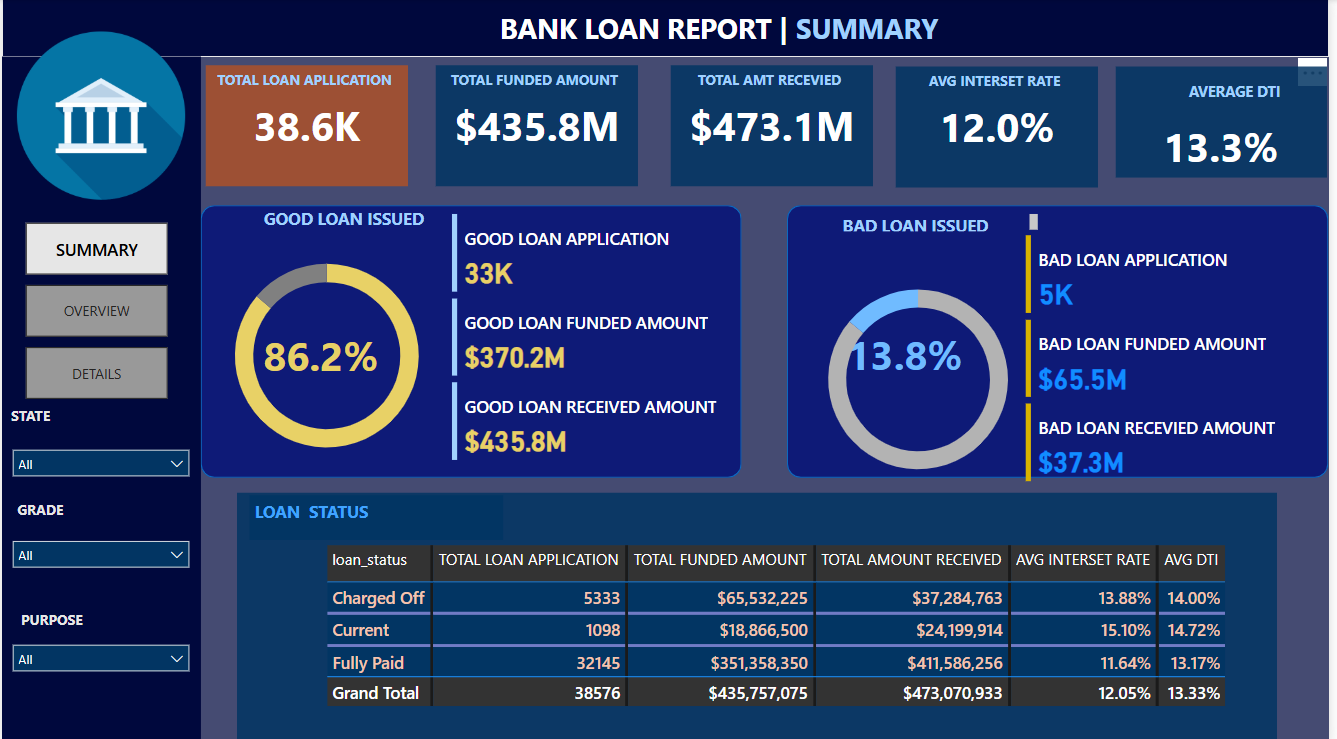

This screenshot's page, from the dashboard's own definition file:
{"tool":"powerbi","page":{"name":"SUMMARY","canvas":[1280,720],"ordinal":0},"visuals":[{"type":"shape","box":[0,0,1280.3,55],"z":0},{"type":"shape","box":[196.6,63.9,195.4,117],"z":0,"group":"g2"},{"type":"shape","box":[418.6,63.9,195.4,117],"z":0,"group":"g3"},{"type":"shape","box":[645.4,63.9,195.4,117],"z":0,"group":"g4"},{"type":"shape","box":[862.6,65.1,195.4,117],"z":0,"group":"g5"},{"type":"shape","box":[1075,65.4,203.9,107.4],"z":0,"group":"g6"},{"type":"donutChart","fields":{"Category":["financial_loan (1).good vs bad loan"],"Y":["financial_loan (1).TOTAL LOAN APPLICATION"]},"box":[771.5,248,226.8,237.7],"z":0,"group":"g13"},{"type":"shape","box":[227,476.6,1003.8,243.7],"z":0,"group":"g12"},{"type":"shape","box":[0,55.5,192,664.7],"z":1000},{"type":"card","fields":{"Values":["financial_loan (1).TOTAL LOAN APPLICATION"]},"box":[196.6,95.3,195.4,53.1],"z":1000,"group":"g2"},{"type":"card","fields":{"Values":["financial_loan (1).TOTAL FUNDED AMOUNT"]},"box":[418.6,95.3,195.4,53.1],"z":1000,"group":"g3"},{"type":"card","fields":{"Values":["financial_loan (1).TOTAL AMOUNT RECEIVED"]},"box":[645.4,95.3,195.4,53.1],"z":1000,"group":"g4"},{"type":"card","fields":{"Values":["financial_loan (1).AVG INTERSET RATE"]},"box":[862.6,96.5,195.4,53.1],"z":1000,"group":"g5"},{"type":"card","fields":{"Values":["financial_loan (1).AVG DTI"]},"box":[1078.5,114.6,195.6,55.3],"z":1000,"group":"g6"},{"type":"cardVisual","fields":{"Data":["financial_loan (1).BAD LOAN  APPLICATION","financial_loan (1).BAD LOAN FUNDED AMOUNT","financial_loan (1).BAD LOAN RECEVIED AMOUNT"]},"box":[983.9,222.7,290.8,249.7],"z":1000,"group":"g13"},{"type":"card","fields":{"Values":["financial_loan (1).BAD LOAN APPLICATION"]},"box":[805.9,312.5,131.5,61.5],"z":1000,"group":"g11"},{"type":"card","fields":{"Values":["financial_loan (1).good loan percentage"]},"box":[238.9,320.9,137.5,45.8],"z":1000,"group":"g7"},{"type":"textbox","box":[413.8,4.8,556.2,47.1],"z":2000},{"type":"textbox","box":[191.8,63.9,200.3,31.4],"z":2000,"group":"g2"},{"type":"textbox","box":[413.8,63.9,200.3,31.4],"z":2000,"group":"g3"},{"type":"textbox","box":[640.6,63.9,200.3,31.4],"z":2000,"group":"g4"},{"type":"textbox","box":[857.8,65.1,200.3,31.4],"z":2000,"group":"g5"},{"type":"textbox","box":[1099,74.8,181.1,37.7],"z":2000,"group":"g6"},{"type":"textbox","box":[199.1,195,261.8,38.6],"z":2000,"group":"g8"},{"type":"group","id":"g1","title":"Group 2","box":[197.9,202.7,522.4,263],"z":2000,"group":"g13"},{"type":"textbox","box":[766.5,203,238.9,26.5],"z":2000,"group":"g10"},{"type":"textbox","box":[790.2,225.6,308.8,9.7],"z":2000,"group":"g9"},{"type":"textbox","box":[0,388.5,66.4,35],"z":2000,"group":"g14"},{"type":"textbox","box":[9.7,479,66.4,33.8],"z":2000,"group":"g15"},{"type":"textbox","box":[9.7,585.1,85.7,35],"z":2000,"group":"g16"},{"type":"group","id":"g2","title":"Group 1","box":[191.8,63.9,200.3,117],"z":3000},{"type":"group","id":"g3","title":"Group 1","box":[413.8,63.9,200.3,117],"z":4000},{"type":"group","id":"g4","title":"Group 1","box":[640.6,63.9,200.3,117],"z":5000},{"type":"shape","box":[191.8,199.1,522,263],"z":6000},{"type":"group","id":"g5","title":"Group 1","box":[857.8,65.1,200.3,117],"z":7000},{"type":"group","id":"g6","title":"Group 1","box":[1075,65.4,205,107.4],"z":8000},{"type":"shape","box":[757.6,199.1,522.4,263],"z":9000},{"type":"donutChart","fields":{"Category":["financial_loan (1).good vs bad loan"],"Y":["financial_loan (1).TOTAL LOAN APPLICATION"]},"box":[197.9,223.2,231.6,242.5],"z":10000,"group":"g1"},{"type":"group","id":"g7","title":"Group 1","box":[238.9,320.9,137.5,45.8],"z":10000},{"type":"group","id":"g8","title":"Group 1","box":[199.1,195,261.8,38.6],"z":11000},{"type":"group","id":"g9","title":"Group 1","box":[790.2,225.6,308.8,9.7],"z":12000},{"type":"group","id":"g10","title":"Group 1","box":[766.5,203,238.9,26.5],"z":13000},{"type":"cardVisual","fields":{"Data":["financial_loan (1).GOOD LOAN APPLICATION","financial_loan (1).GOOD LOAN FUNDED AMOUNT","financial_loan (1).GOOD LOAN RECEIVED AMOUNT"]},"box":[429.5,202.7,290.8,249.7],"z":14000,"group":"g1"},{"type":"group","id":"g11","title":"Group 1","box":[805.9,312.5,131.5,61.5],"z":14000},{"type":"group","id":"g12","title":"Group 1","box":[227,476.6,1003.8,243.7],"z":15000},{"type":"group","id":"g13","title":"Group 3","box":[197.9,202.7,1076.1,283.5],"z":16000},{"type":"tableEx","fields":{"Values":["financial_loan (1).loan_status","financial_loan (1).TOTAL LOAN APPLICATION","financial_loan (1).TOTAL FUNDED AMOUNT","financial_loan (1).TOTAL AMOUNT RECEIVED","financial_loan (1).AVG INTERSET RATE","financial_loan (1).AVG DTI"]},"box":[307.6,522.4,897.6,181],"z":17000},{"type":"textbox","box":[238.9,479,244.9,43.4],"z":18000},{"type":"slicer","fields":{"Values":["financial_loan (1).address_state"]},"box":[0,424.7,190.6,51.9],"z":19000},{"type":"group","id":"g14","title":"Group 1","box":[0,388.5,66.4,35],"z":20000},{"type":"slicer","fields":{"Values":["financial_loan (1).grade"]},"box":[0,512.7,190.6,55.5],"z":22000},{"type":"group","id":"g15","title":"Group 1","box":[9.7,479,66.4,33.8],"z":23000},{"type":"slicer","fields":{"Values":["financial_loan (1).purpose"]},"box":[0,612.9,190.6,51.9],"z":24000},{"type":"group","id":"g16","title":"Group 1","box":[9.7,585.1,85.7,36.2],"z":25000},{"type":"image","box":[0,26.5,190.6,172.5],"z":25001},{"type":"pageNavigator","box":[22.9,216,137.5,172.5],"z":25002}]}

Visuals, with their boxes in screenshot pixels (x1, y1, x2, y2), scaled from the page's 1280x720 canvas onto the 1337x739 screenshot:
shape: (0, 0, 1336, 56)
shape: (205, 66, 409, 186)
shape: (437, 66, 641, 186)
shape: (674, 66, 878, 186)
shape: (901, 67, 1105, 187)
shape: (1123, 67, 1336, 177)
donutChart - financial_loan (1).good vs bad loan x financial_loan (1).TOTAL LOAN APPLICATION: (806, 255, 1043, 499)
shape: (237, 489, 1286, 738)
shape: (0, 57, 201, 738)
card - financial_loan (1).TOTAL LOAN APPLICATION: (205, 98, 409, 152)
card - financial_loan (1).TOTAL FUNDED AMOUNT: (437, 98, 641, 152)
card - financial_loan (1).TOTAL AMOUNT RECEIVED: (674, 98, 878, 152)
card - financial_loan (1).AVG INTERSET RATE: (901, 99, 1105, 154)
card - financial_loan (1).AVG DTI: (1127, 118, 1331, 174)
cardVisual - financial_loan (1).BAD LOAN  APPLICATION x financial_loan (1).BAD LOAN FUNDED AMOUNT: (1028, 229, 1331, 485)
card - financial_loan (1).BAD LOAN APPLICATION: (842, 321, 979, 384)
card - financial_loan (1).good loan percentage: (250, 329, 393, 376)
textbox: (432, 5, 1013, 53)
textbox: (200, 66, 410, 98)
textbox: (432, 66, 641, 98)
textbox: (669, 66, 878, 98)
textbox: (896, 67, 1105, 99)
textbox: (1148, 77, 1336, 115)
textbox: (208, 200, 481, 240)
"Group 2" group: (207, 208, 752, 478)
textbox: (801, 208, 1050, 236)
textbox: (825, 232, 1148, 242)
textbox: (0, 399, 69, 435)
textbox: (10, 492, 79, 526)
textbox: (10, 601, 100, 636)
"Group 1" group: (200, 66, 410, 186)
"Group 1" group: (432, 66, 641, 186)
"Group 1" group: (669, 66, 878, 186)
shape: (200, 204, 746, 474)
"Group 1" group: (896, 67, 1105, 187)
"Group 1" group: (1123, 67, 1336, 177)
shape: (791, 204, 1336, 474)
donutChart - financial_loan (1).good vs bad loan x financial_loan (1).TOTAL LOAN APPLICATION: (207, 229, 449, 478)
"Group 1" group: (250, 329, 393, 376)
"Group 1" group: (208, 200, 481, 240)
"Group 1" group: (825, 232, 1148, 242)
"Group 1" group: (801, 208, 1050, 236)
cardVisual - financial_loan (1).GOOD LOAN APPLICATION x financial_loan (1).GOOD LOAN FUNDED AMOUNT: (449, 208, 752, 464)
"Group 1" group: (842, 321, 979, 384)
"Group 1" group: (237, 489, 1286, 738)
"Group 3" group: (207, 208, 1331, 499)
tableEx - financial_loan (1).loan_status x financial_loan (1).TOTAL LOAN APPLICATION: (321, 536, 1259, 722)
textbox: (250, 492, 505, 536)
slicer - financial_loan (1).address_state: (0, 436, 199, 489)
"Group 1" group: (0, 399, 69, 435)
slicer - financial_loan (1).grade: (0, 526, 199, 583)
"Group 1" group: (10, 492, 79, 526)
slicer - financial_loan (1).purpose: (0, 629, 199, 682)
"Group 1" group: (10, 601, 100, 638)
image: (0, 27, 199, 204)
pageNavigator: (24, 222, 168, 399)
